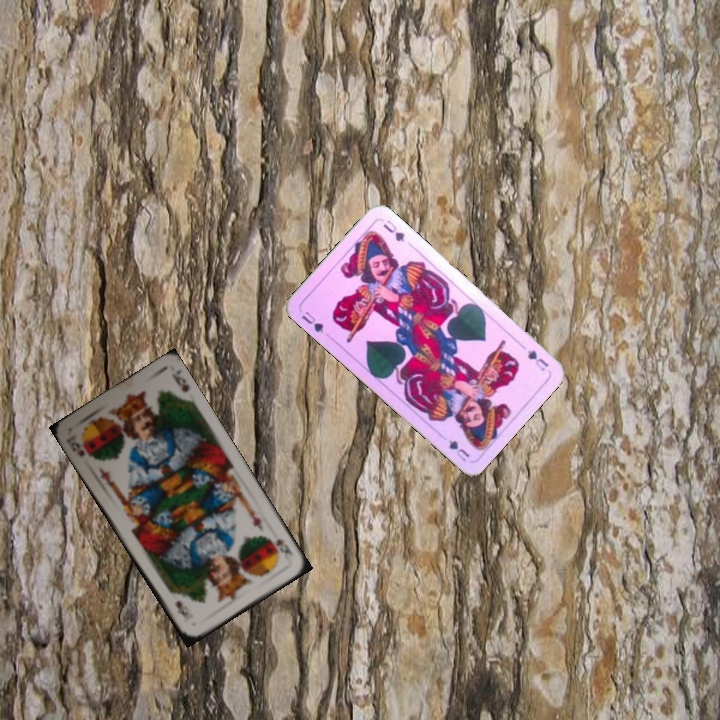GU: (297, 307, 326, 336), (523, 345, 551, 374)
SK: (264, 532, 294, 559), (65, 431, 87, 460)
